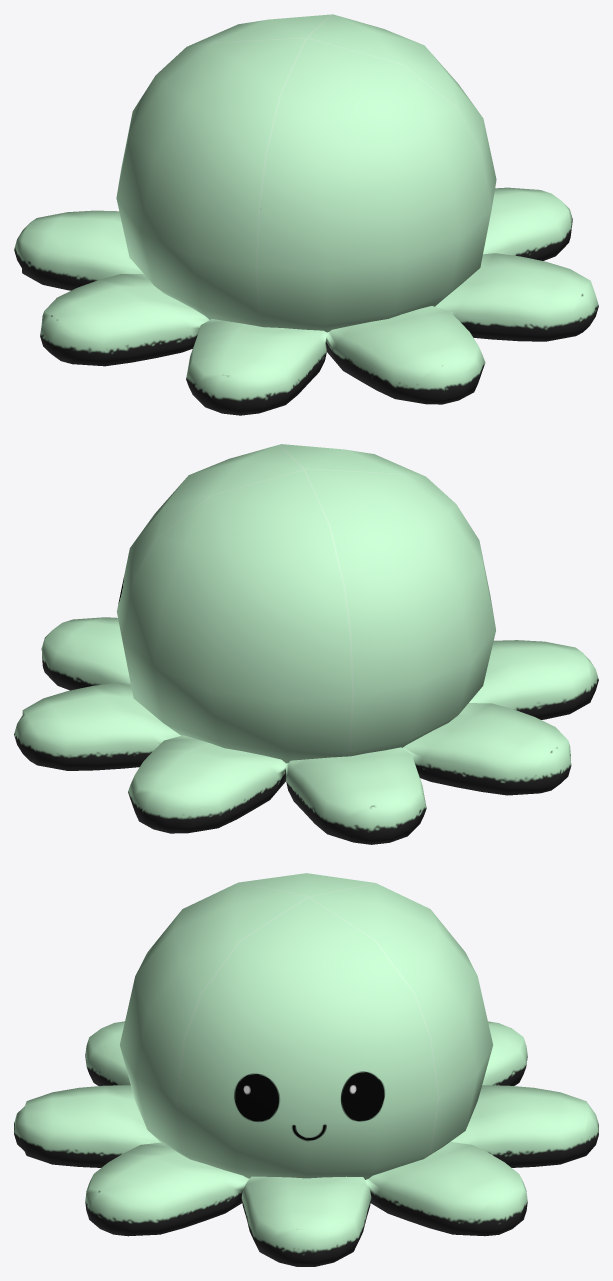
Rendered from octopus_plush.glb.
The picture shows the model from 3 angles, top to bottom: view 1: azimuth 30°, elevation 25°; view 2: azimuth 150°, elevation 25°; view 3: azimuth 270°, elevation 25°; orthographic projection. The views are drawn at different scales.
Visible parts, largest first — view 1: Head_low, Limbs_low; view 2: Head_low, Limbs_low; view 3: Head_low, Limbs_low.
Part boxes in pixels (x1,y1,x2,y2): Head_low: (116, 14, 496, 332); Limbs_low: (14, 187, 598, 415); Head_low: (116, 444, 495, 763); Limbs_low: (14, 617, 598, 844); Head_low: (120, 873, 492, 1179); Limbs_low: (14, 1021, 598, 1266).
Size of the model in its own units: 3.13 by 1.49 by 3.13.
Materials: 1 (1 with a texture image).
